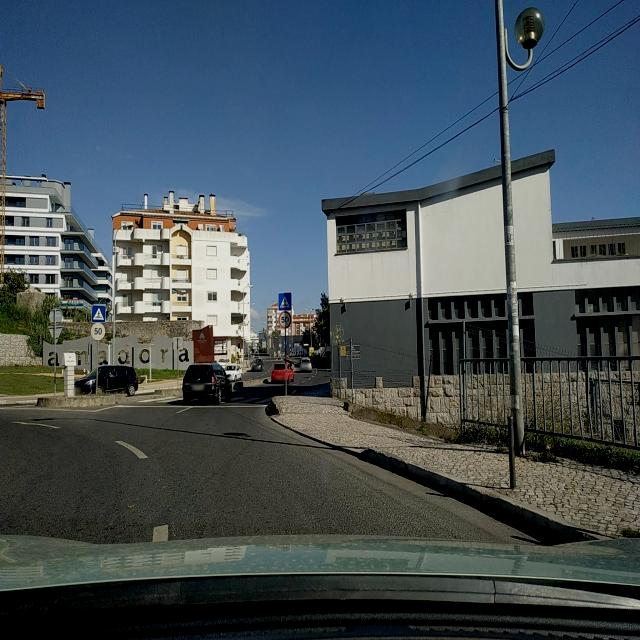car: (182, 362, 233, 403), (76, 364, 138, 396), (271, 362, 295, 384), (482, 358, 510, 374), (223, 363, 244, 378), (250, 360, 264, 371)
